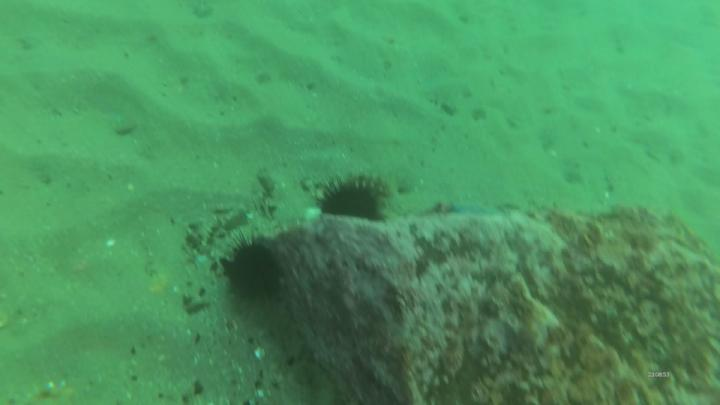echinus: (225, 237, 285, 308), (320, 173, 392, 225)
